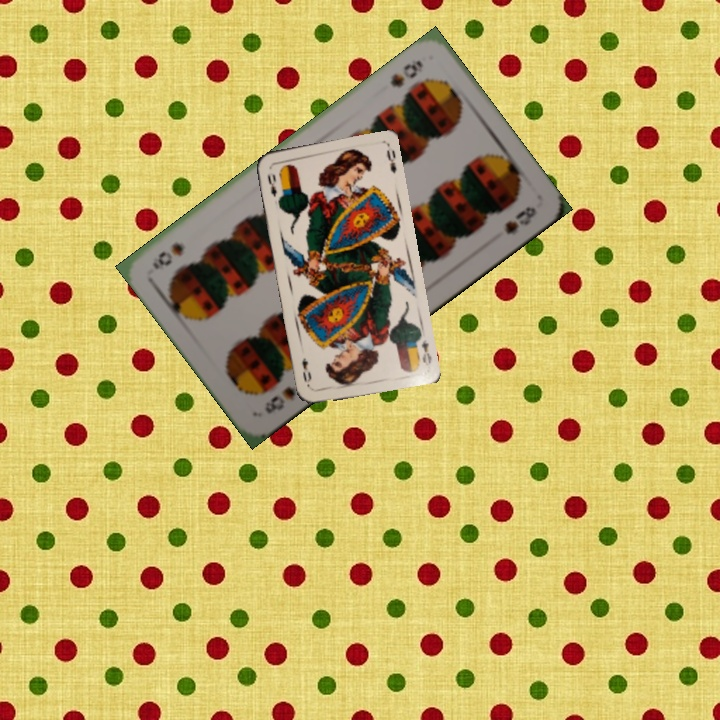EO: (417, 336, 434, 368), (263, 170, 279, 199)
S8: (386, 55, 426, 91), (260, 382, 298, 416)
